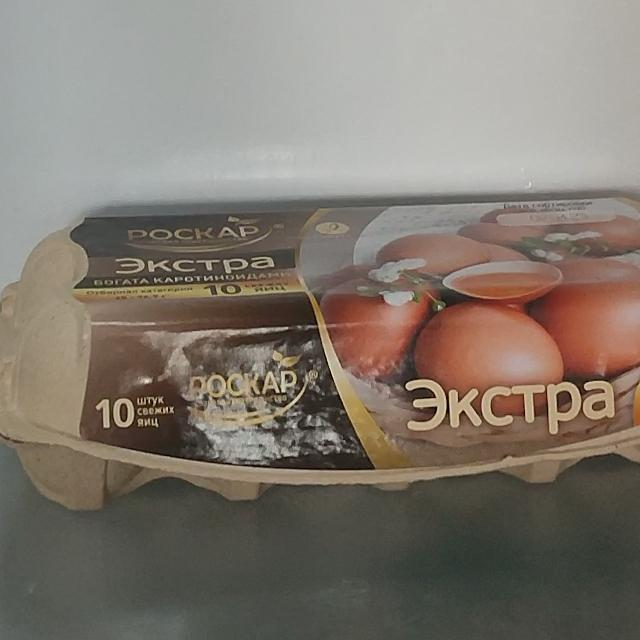egg: (0, 159, 640, 531)
